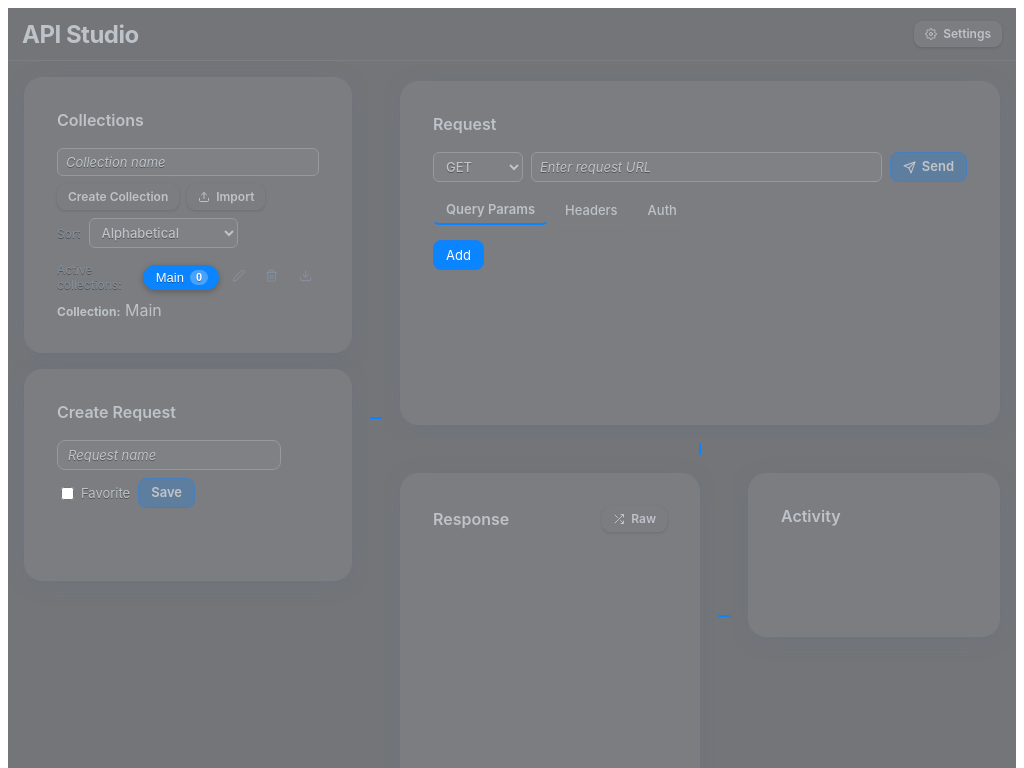
Test: Theme persistence › reads persisted values on mount
This screenshot has width=1024, height=768.
# Open settings to inspect current slider value
Click the button titled "Settings" at point(958, 34), box x1=914 y1=21 x2=1002 y2=47
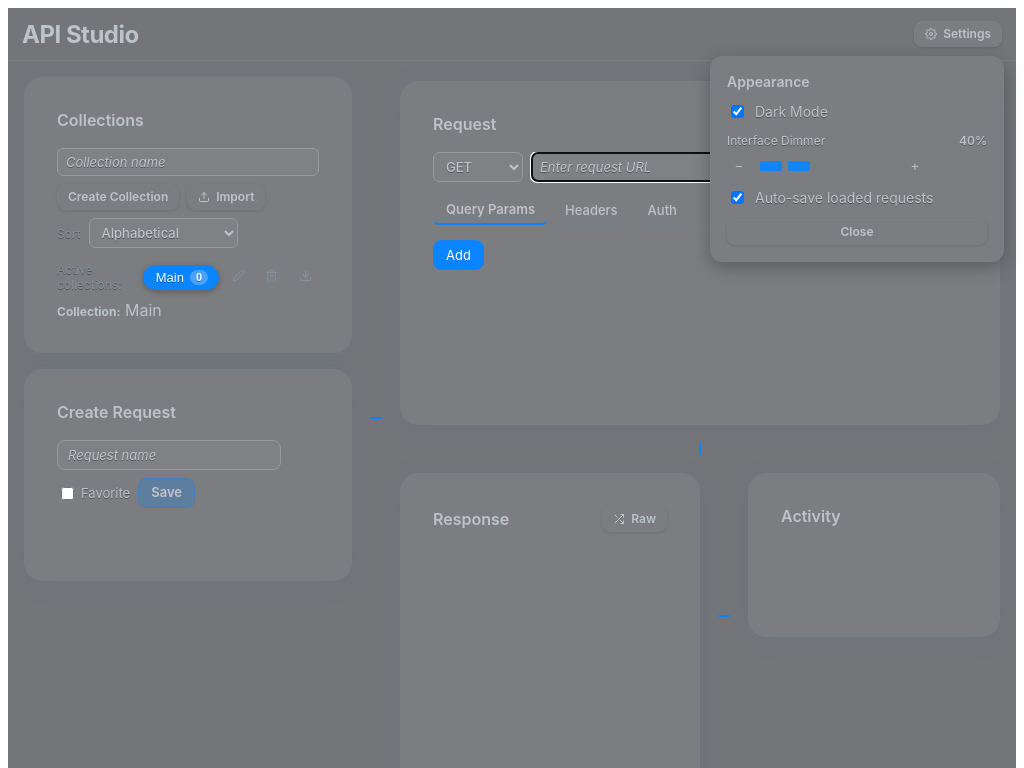
Expected: the heading "API Studio" is shown, x1=22 y1=20 x2=139 y2=48
Expected: the slider labelled "Interface Dimmer 40%" holds "0.4", x1=727 y1=133 x2=987 y2=148
Expected: the checkbox labelled "Dark Mode" is checked, x1=731 y1=105 x2=744 y2=118
